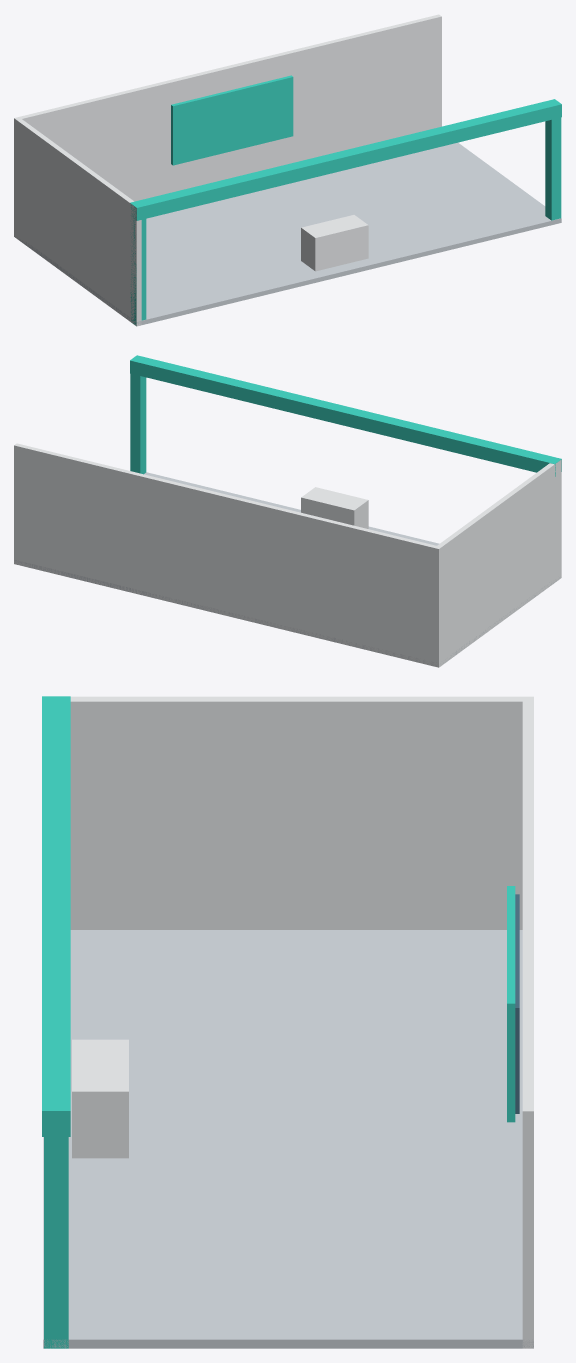
3 renders of one model, top to bottom at view 1: azimuth 30°, elevation 25°; view 2: azimuth 150°, elevation 25°; view 3: azimuth 270°, elevation 25°, orthographic. The views are drawn at different scales.
Parts seen in each view (by area): view 1: Exhibition Booth Concept; view 2: Exhibition Booth Concept; view 3: Exhibition Booth Concept.
Boxes of the visible parts, x1,y1,x2,y2 form: Exhibition Booth Concept: [14, 14, 561, 326]; Exhibition Booth Concept: [14, 355, 561, 667]; Exhibition Booth Concept: [42, 696, 533, 1348].
Size of the model in its own units: 12 by 3.2 by 6.02.
